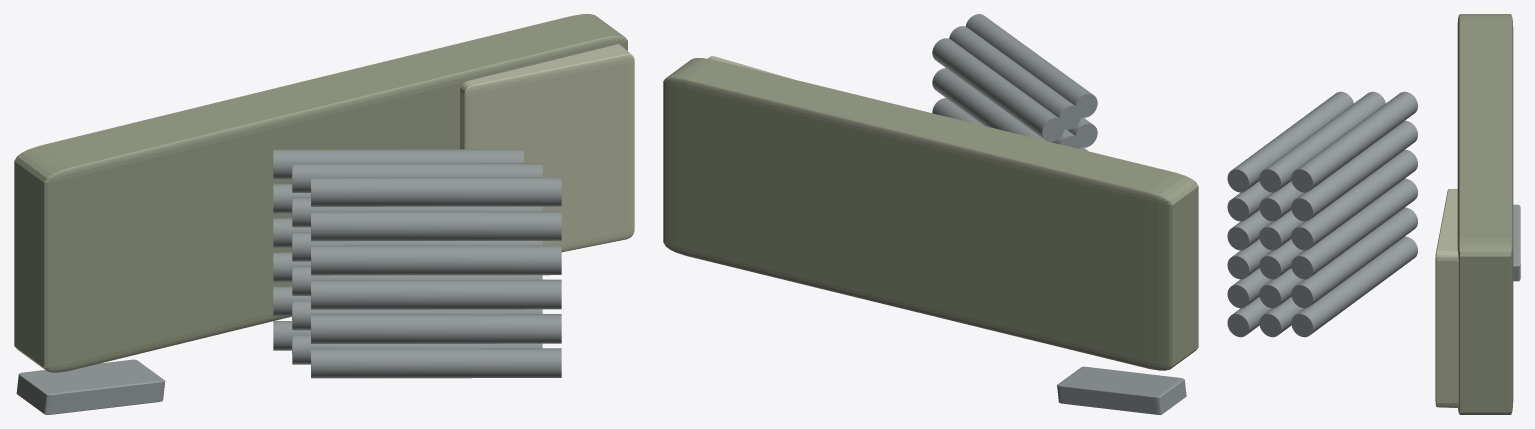
Rendered from v-u17-vanguard-rocket-artillery-lod2.glb.
3 views of the same model, side by side, from view 1: azimuth 30°, elevation 25°; view 2: azimuth 150°, elevation 25°; view 3: azimuth 270°, elevation 25° (orthographic). The views are drawn at different scales.
Visible parts, largest first — view 1: chassis_lower, chassis_nose, rocket_tube_16, rocket_tube_13, rocket_tube_17, rocket_tube_15, rocket_tube_14, rocket_tube_18, rocket_jack_-1, rocket_tube_6, rocket_tube_12, rocket_tube_8 (+9 smaller); view 2: chassis_lower, rocket_jack_-1, rocket_tube_6, rocket_tube_18, rocket_tube_12, rocket_tube_5, rocket_tube_4, rocket_tube_17; view 3: chassis_lower, chassis_nose, rocket_tube_6, rocket_tube_1, rocket_tube_4, rocket_tube_5, rocket_tube_2, rocket_tube_3, rocket_tube_12, rocket_tube_18, rocket_tube_7, rocket_tube_14 (+9 smaller).
Boxes of the visible parts, x1,y1,x2,y2 form: chassis_lower: (14, 14, 627, 372); chassis_nose: (460, 44, 634, 252); rocket_tube_16: (311, 245, 561, 275); rocket_tube_13: (311, 348, 561, 378); rocket_tube_17: (311, 211, 561, 241); rocket_tube_15: (311, 279, 561, 309); rocket_tube_14: (311, 314, 561, 343); rocket_tube_18: (311, 177, 561, 206); rocket_jack_-1: (16, 359, 165, 414); rocket_tube_6: (273, 149, 523, 179); rocket_tube_12: (292, 163, 542, 192); rocket_tube_8: (292, 300, 542, 330); chassis_lower: (663, 58, 1198, 370); rocket_jack_-1: (1057, 366, 1186, 414); rocket_tube_6: (932, 38, 1064, 141); rocket_tube_18: (965, 14, 1097, 117); rocket_tube_12: (949, 26, 1080, 129); rocket_tube_5: (932, 68, 1046, 140); rocket_tube_4: (932, 98, 984, 125); rocket_tube_17: (1068, 117, 1097, 147); chassis_lower: (1457, 14, 1513, 414); chassis_nose: (1435, 189, 1458, 407); rocket_tube_6: (1291, 91, 1417, 192); rocket_tube_1: (1291, 236, 1417, 337); rocket_tube_4: (1291, 149, 1417, 250); rocket_tube_5: (1291, 120, 1417, 221); rocket_tube_2: (1291, 207, 1417, 308); rocket_tube_3: (1291, 178, 1417, 279); rocket_tube_12: (1259, 91, 1385, 192); rocket_tube_18: (1227, 91, 1353, 192); rocket_tube_7: (1259, 296, 1303, 337); rocket_tube_14: (1227, 268, 1271, 308).
Size of what is drawn, in the model's own units: 8.11 by 3.49 by 4.18.
